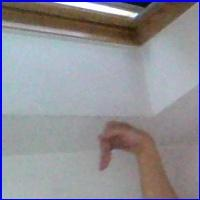del: (95, 117, 153, 177)
